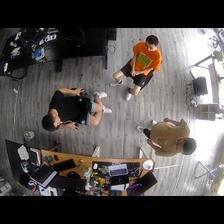normal: (41, 85, 111, 137), (112, 34, 162, 95), (139, 117, 197, 162)
